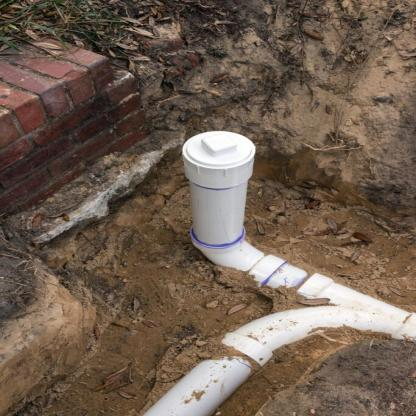PVC: (144, 128, 415, 416)
